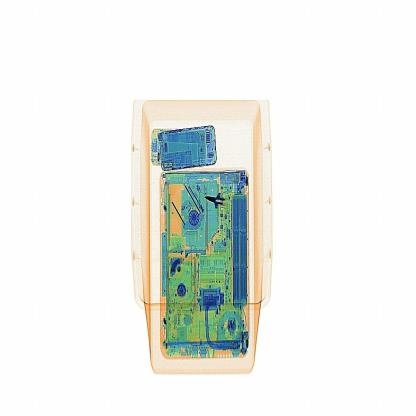gun: (189, 178, 242, 221)
